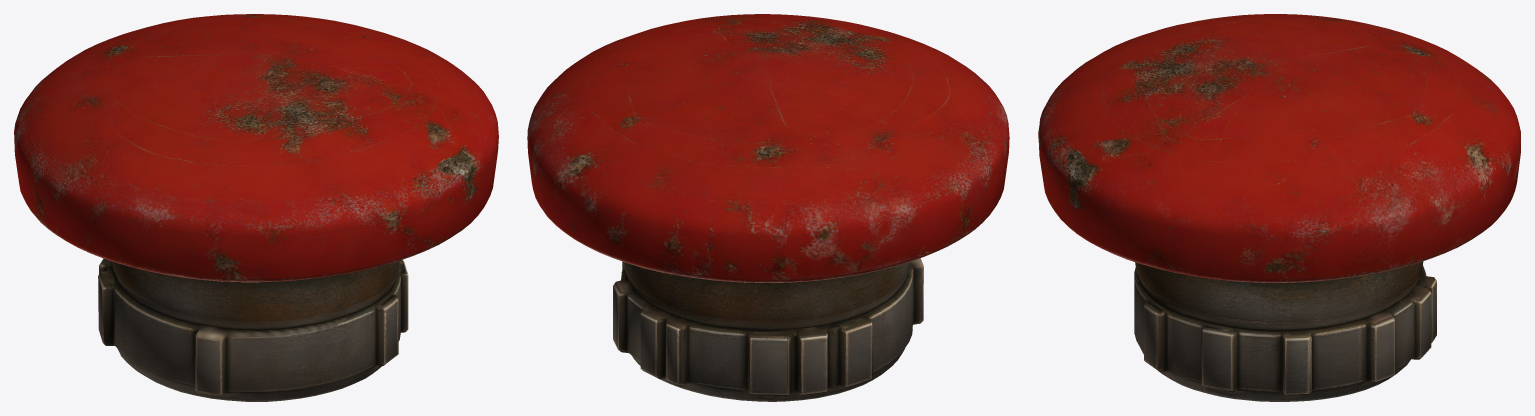
The model's file is button.glb.
The picture shows the model from 3 angles, left to right: view 1: azimuth 30°, elevation 25°; view 2: azimuth 150°, elevation 25°; view 3: azimuth 270°, elevation 25°; orthographic projection.
Visible parts, largest first — view 1: mesh_rep_0_ori_repair; view 2: mesh_rep_0_ori_repair; view 3: mesh_rep_0_ori_repair.
Part boxes in pixels (x1,y1,x2,y2): mesh_rep_0_ori_repair: [14, 14, 498, 401]; mesh_rep_0_ori_repair: [527, 14, 1009, 401]; mesh_rep_0_ori_repair: [1038, 14, 1520, 401].
Size of the model in its own units: 1.13 by 0.749 by 1.13.
1 material, 1 textured.
